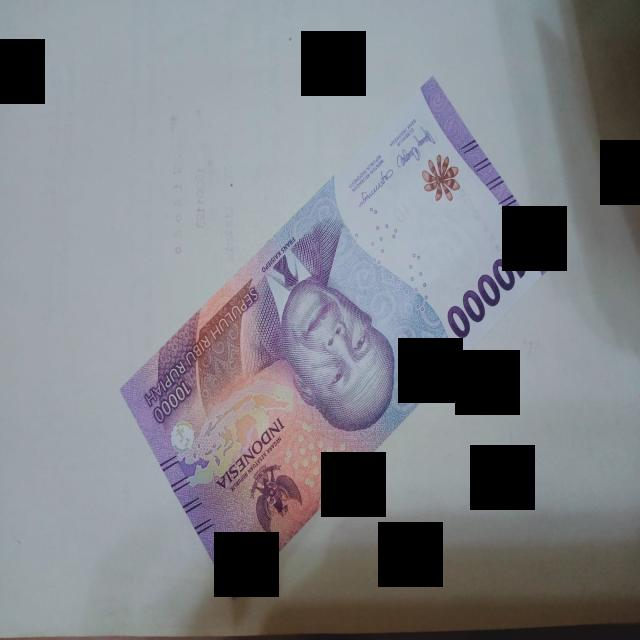sepuluhribu rupiah: (121, 78, 552, 597)
